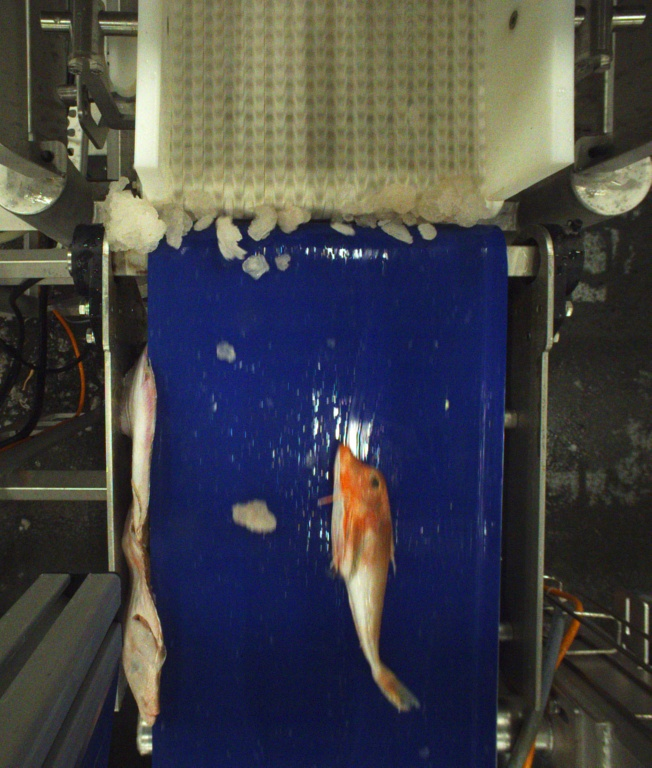GUU: (329, 445, 419, 712)
